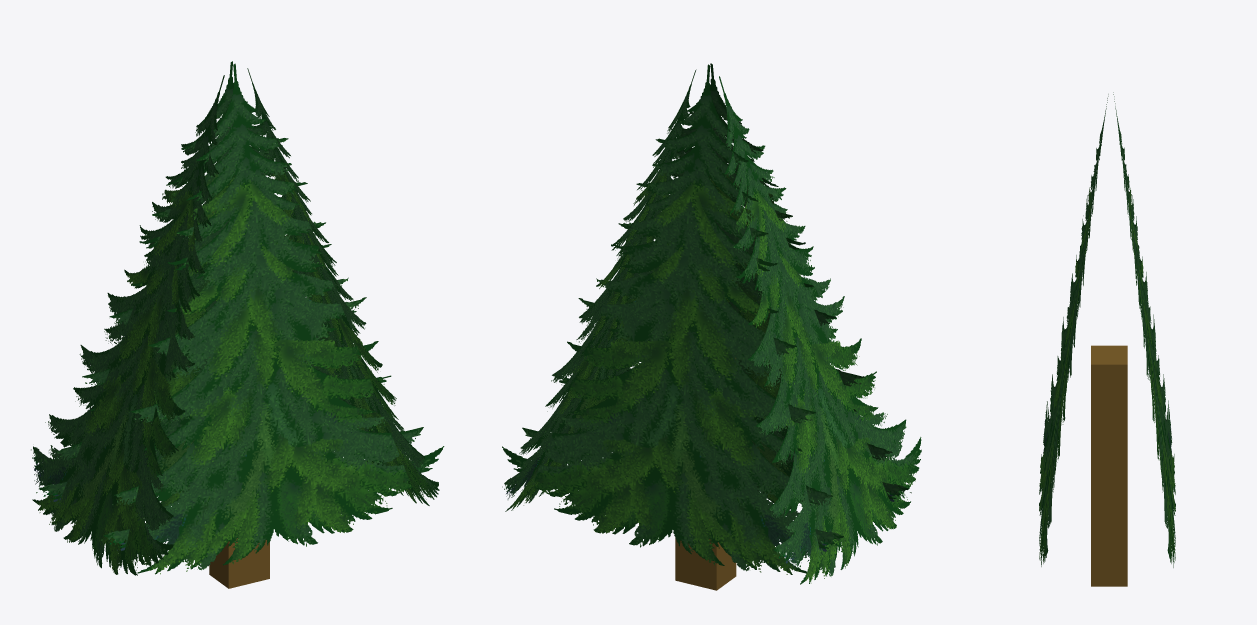
File: Tree.fbx
The picture shows the model from 3 angles, left to right: view 1: azimuth 30°, elevation 25°; view 2: azimuth 150°, elevation 25°; view 3: azimuth 270°, elevation 25°; orthographic projection. The views are drawn at different scales.
Parts seen in each view (by area): view 1: PineTree, PineTree.003, PineTree.002, PineTree.001, Cube; view 2: PineTree.001, PineTree.003, PineTree.002, PineTree, Cube; view 3: Cube, PineTree, PineTree.001.
Boxes of the visible parts, bbox=[...] form: PineTree: bbox=[101, 63, 444, 574]; PineTree.003: bbox=[31, 75, 224, 575]; PineTree.002: bbox=[247, 68, 439, 505]; PineTree.001: bbox=[36, 61, 340, 520]; Cube: bbox=[209, 357, 269, 588]; PineTree.001: bbox=[502, 64, 846, 574]; PineTree.003: bbox=[719, 76, 921, 584]; PineTree.002: bbox=[502, 69, 696, 511]; PineTree: bbox=[608, 63, 911, 511]; Cube: bbox=[675, 358, 736, 590]; Cube: bbox=[1091, 345, 1127, 586]; PineTree: bbox=[1039, 94, 1108, 566]; PineTree.001: bbox=[1113, 92, 1175, 567].
Size of the model in its own units: 537 by 771 by 395.
